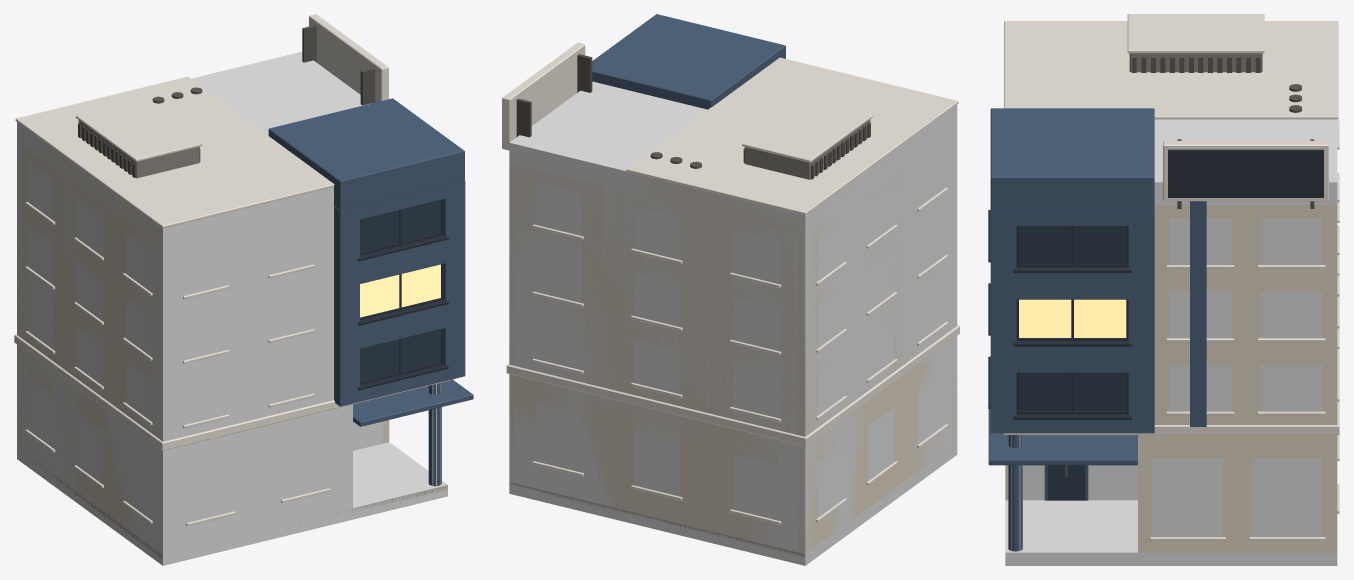
The picture shows the model from 3 angles, left to right: view 1: azimuth 30°, elevation 25°; view 2: azimuth 150°, elevation 25°; view 3: azimuth 270°, elevation 25°; orthographic projection. The views are drawn at different scales.
Visible parts, largest first — view 1: T04_body, col_upper, col_ground_side, col_floor, col_ground_main; view 2: T04_body, col_upper, col_ground_main, col_floor, col_ground_side; view 3: T04_body, col_upper, col_ground_main, col_floor, col_ground_side, col_corner.
Boxes of the visible parts, x1,y1,x2,y2 form: T04_body: (14,14,473,558); col_upper: (17,51,371,441); col_ground_side: (104,404,352,554); col_floor: (17,442,447,565); col_ground_main: (17,345,382,494); T04_body: (502,14,959,557); col_upper: (509,81,957,436); col_ground_main: (509,382,894,553); col_floor: (509,443,957,565); col_ground_side: (912,336,957,474); T04_body: (988,14,1339,552); col_upper: (1154,119,1337,411); col_ground_main: (1152,458,1322,536); col_floor: (1005,500,1337,565); col_ground_side: (1023,465,1137,500); col_corner: (1008,435,1022,550).
Size of the model in its own units: 9.66 by 11.35 by 8.47.
